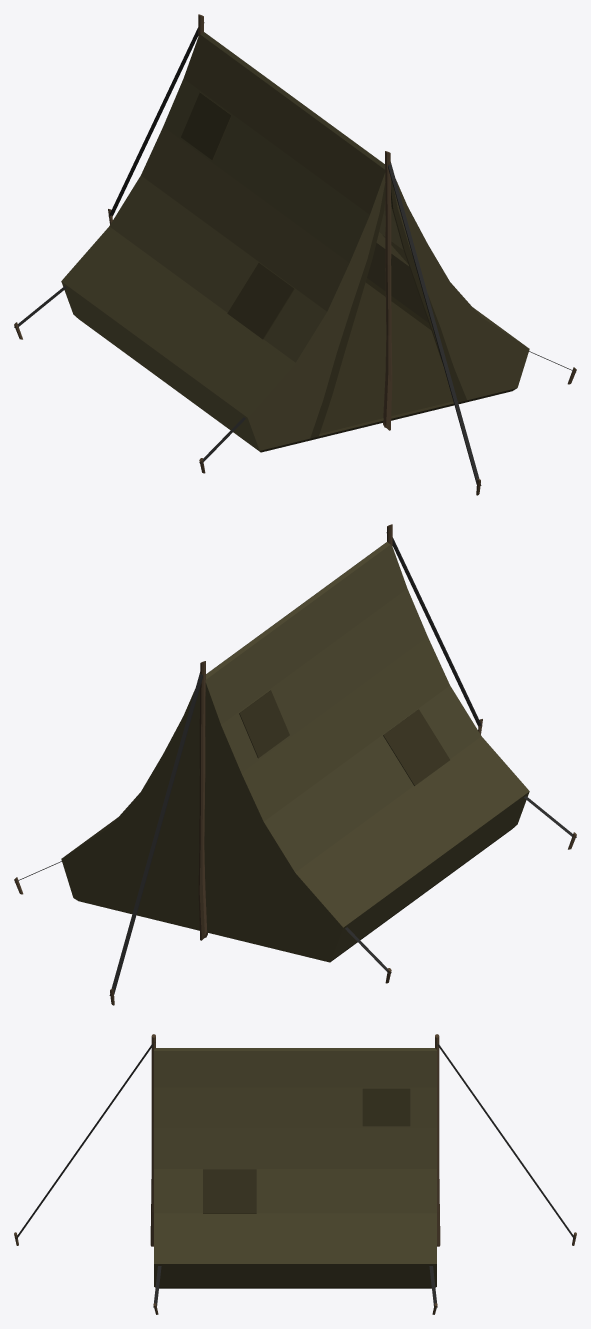
File: tent.glb
3 renders of one model, top to bottom at view 1: azimuth 30°, elevation 25°; view 2: azimuth 150°, elevation 25°; view 3: azimuth 270°, elevation 25°, orthographic. The views are drawn at different scales.
Parts seen in each view (by area): view 1: Tent; view 2: Tent; view 3: Tent.
Part boxes in pixels (x1,y1,x2,y2): Tent: (14, 14, 576, 495); Tent: (14, 524, 576, 1005); Tent: (14, 1034, 576, 1314).
Bounding box in the file's own units: 14.58 × 10.32 × 24.87.
